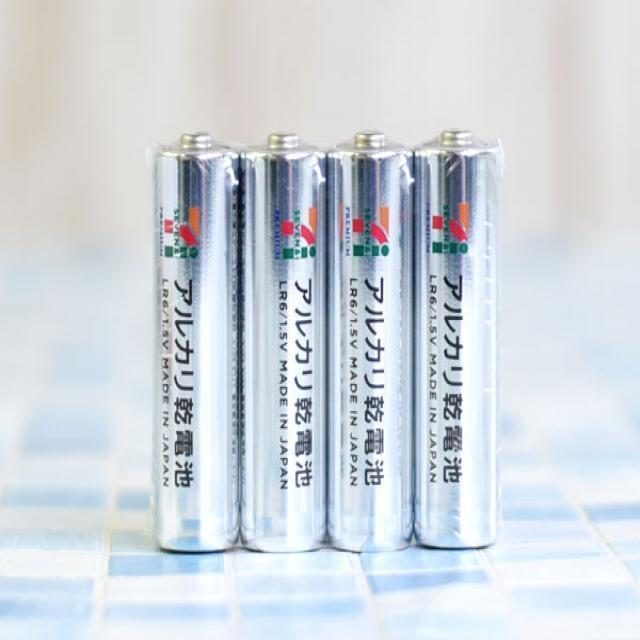Hazard: (324, 124, 418, 562), (148, 128, 240, 558), (239, 128, 330, 557), (412, 126, 503, 554)
